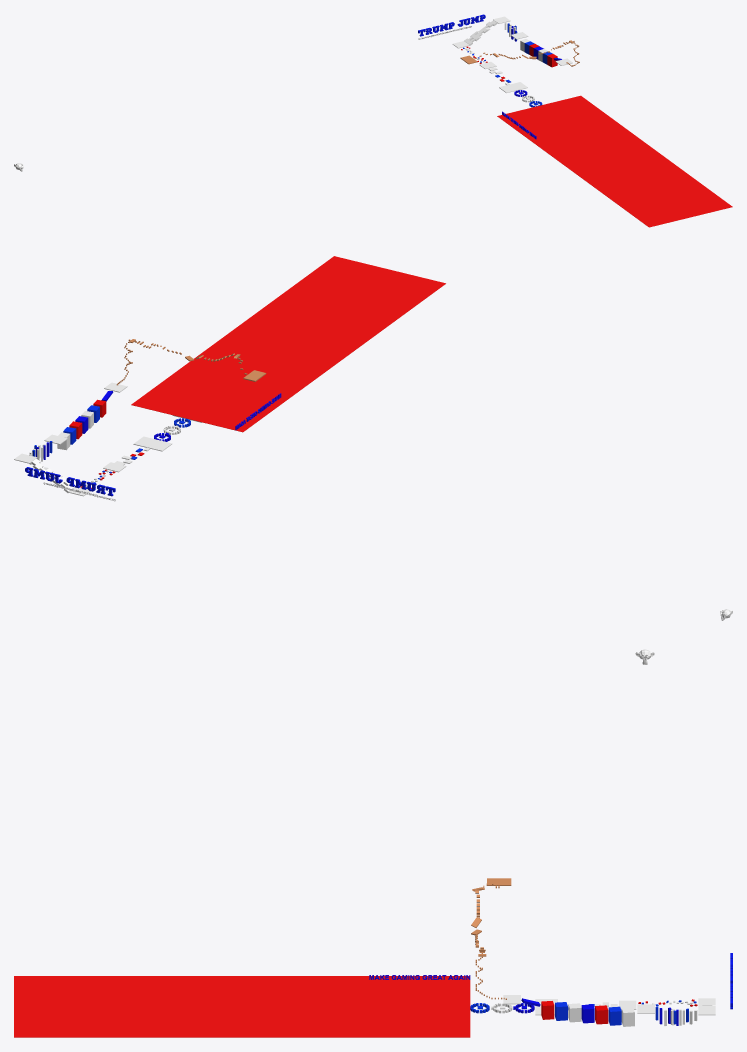
3 views of the same model, one above another, from view 1: azimuth 30°, elevation 25°; view 2: azimuth 150°, elevation 25°; view 3: azimuth 270°, elevation 25° (orthographic). The views are drawn at different scales.
Parts seen in each view (by area): view 1: Box, ImageToStlcom_3d-drawing_(1)glb; view 2: Box, ImageToStlcom_3d-drawing_(1)glb; view 3: Box.
Part boxes in pixels (<box>): Box: <box>497,95,732,227</box>; ImageToStlcom_3d-drawing_(1)glb: <box>418,14,485,36</box>; Box: <box>131,256,445,432</box>; ImageToStlcom_3d-drawing_(1)glb: <box>25,467,115,496</box>; Box: <box>14,976,470,1037</box>.
Bounding box in the file's own units: 3538 × 402 × 2865.
